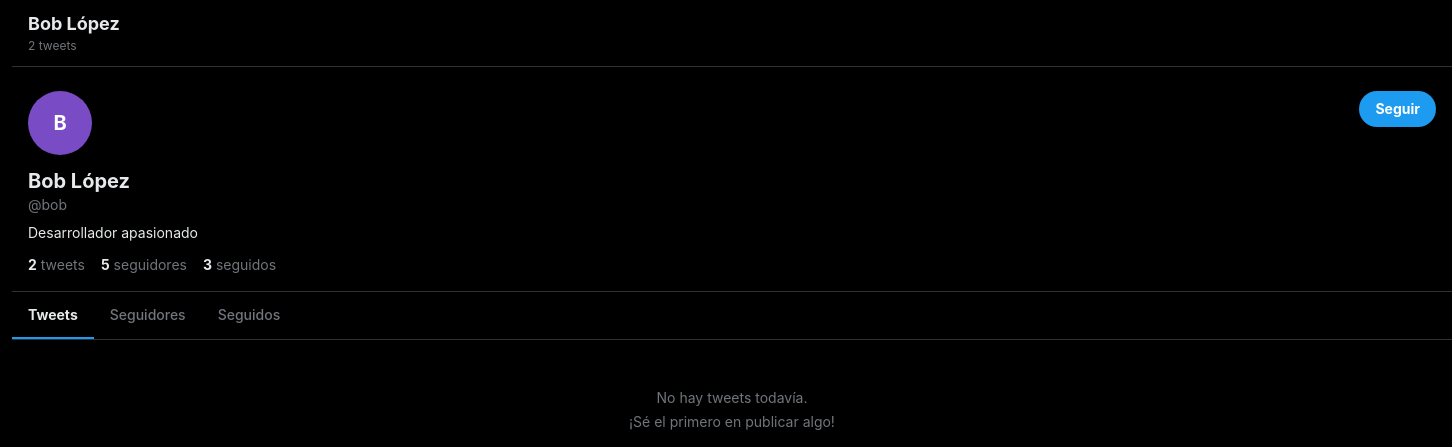
ProfilePage — follow (integración) › click en Seguir cambia el botón a Siguiendo
Note: Hacer click en el botón
Click the button "Seguir".
click(1398, 109)  # box [1359,91,1436,127]
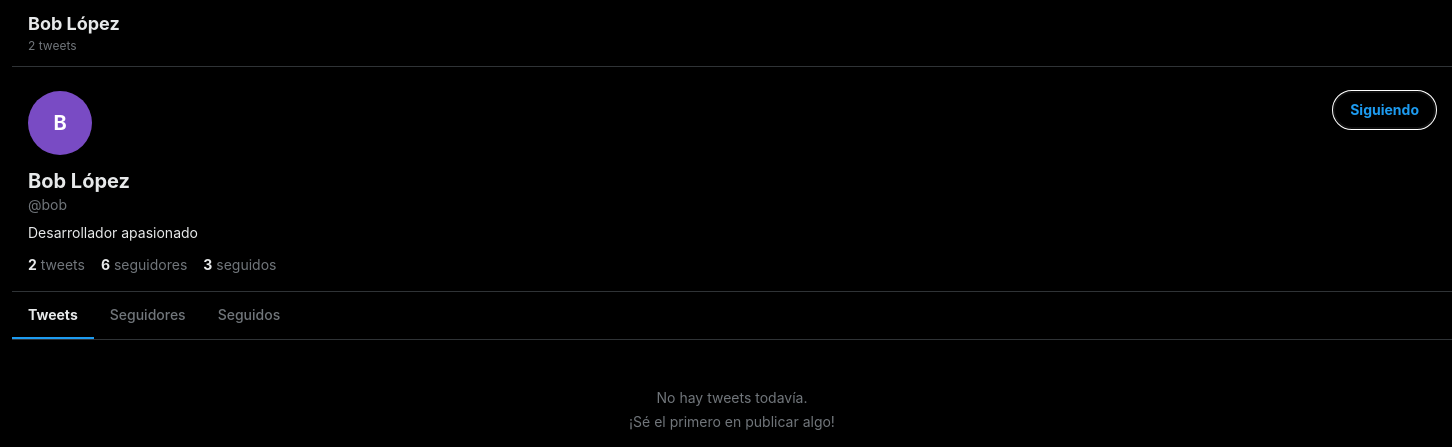
Now the button "Siguiendo" is shown, box [1333,91,1436,129]
